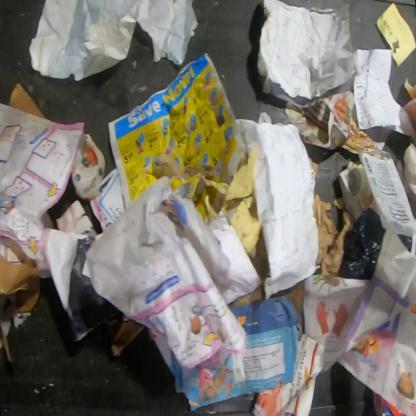cardboard: (152, 296, 300, 413), (0, 235, 42, 313), (70, 132, 107, 202), (105, 310, 146, 360), (7, 81, 48, 118), (227, 284, 266, 308), (280, 279, 305, 316), (372, 391, 405, 416)
soft_plastic: (356, 146, 416, 238), (338, 208, 386, 280)
